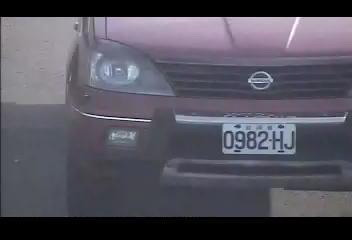plate: (220, 121, 297, 157)
